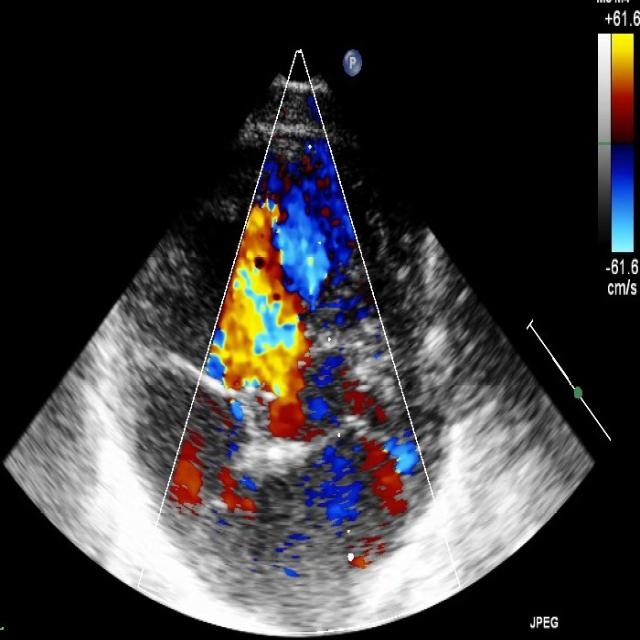VSDType2: (214, 204, 314, 406)
